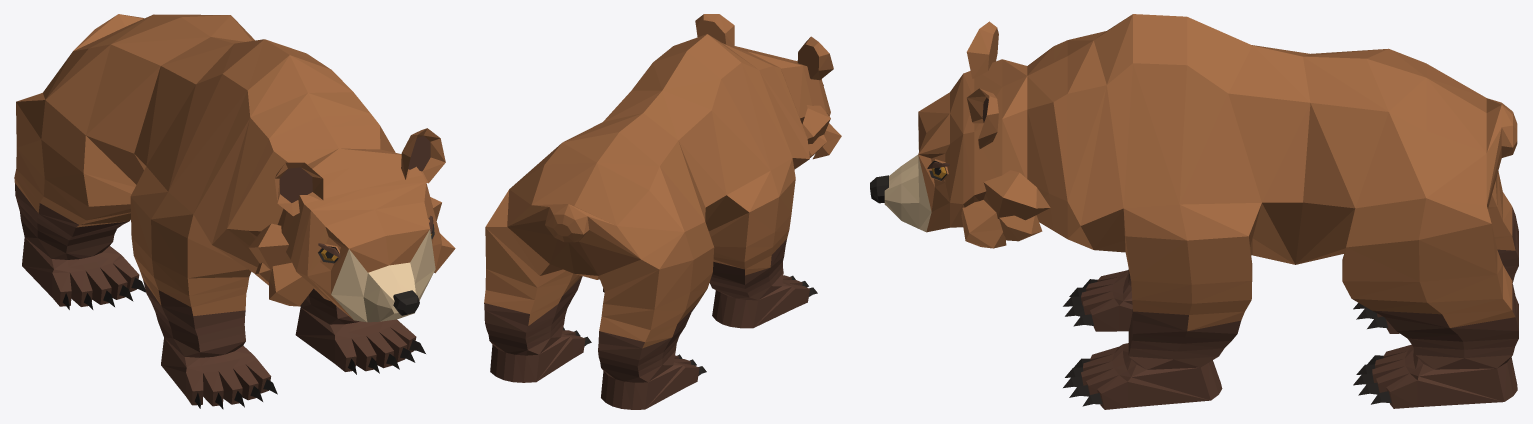
3 renders of one model, left to right at view 1: azimuth 30°, elevation 25°; view 2: azimuth 150°, elevation 25°; view 3: azimuth 270°, elevation 25°, orthographic. The views are drawn at different scales.
Parts seen in each view (by area): view 1: body, piece_cheek, piece_ear_R, piece_ear_L, piece_claws_0, piece_nose, piece_claws_1; view 2: body, piece_cheek, piece_ear_R, piece_ear_L; view 3: body, piece_cheek, piece_claws_0, piece_ear_L, piece_ear_R, piece_claws_1.
Part boxes in pixels (<box>): body: <box>14,14,441,406</box>; piece_cheek: <box>248,197,455,306</box>; piece_ear_R: <box>274,162,323,216</box>; piece_ear_L: <box>401,128,445,183</box>; piece_claws_0: <box>194,340,425,409</box>; piece_nose: <box>393,290,419,315</box>; piece_claws_1: <box>62,277,145,309</box>; body: <box>484,34,830,409</box>; piece_cheek: <box>802,105,841,159</box>; piece_ear_R: <box>797,36,833,80</box>; piece_ear_L: <box>695,14,734,46</box>; body: <box>884,14,1518,409</box>; piece_cheek: <box>961,170,1050,248</box>; piece_claws_0: <box>1063,279,1102,406</box>; piece_ear_L: <box>967,88,998,148</box>; piece_ear_R: <box>966,21,998,78</box>; piece_claws_1: <box>1353,303,1391,404</box>.
Bounding box in the file's own units: 0.77 × 0.998 × 1.74.
